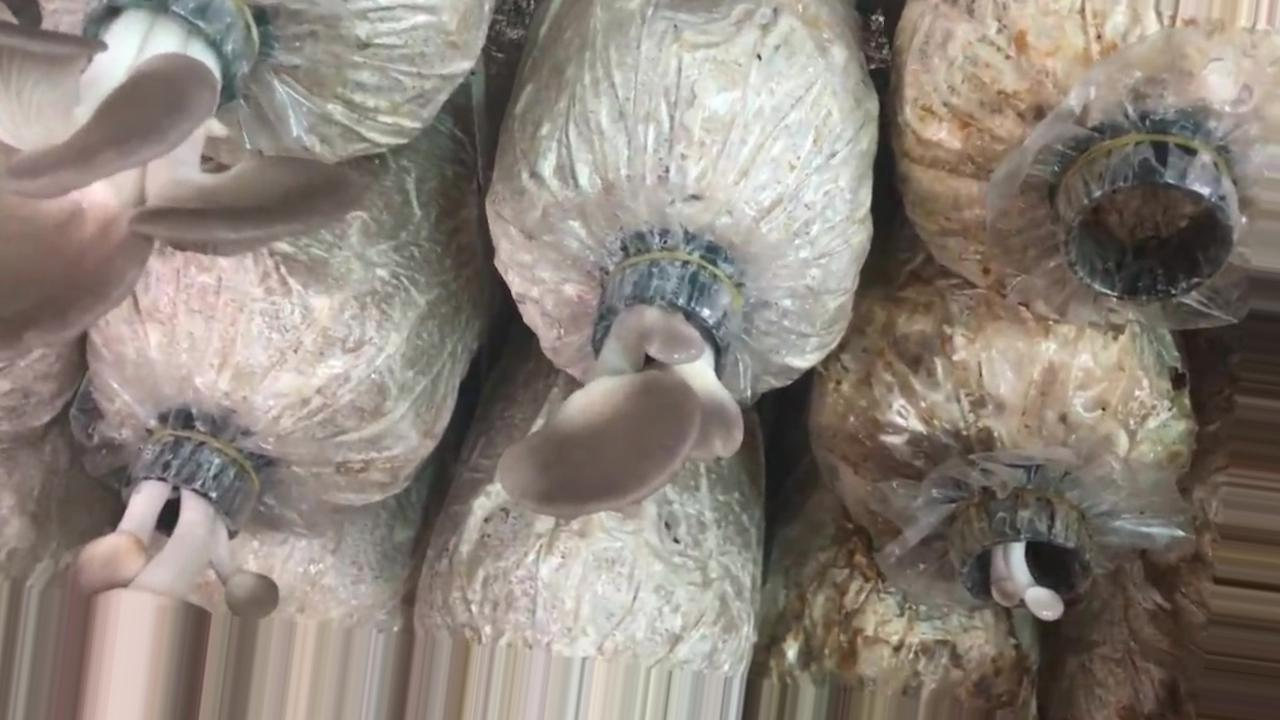nam: (1, 1, 378, 357), (500, 253, 745, 520), (77, 437, 281, 720), (952, 512, 1092, 623)
